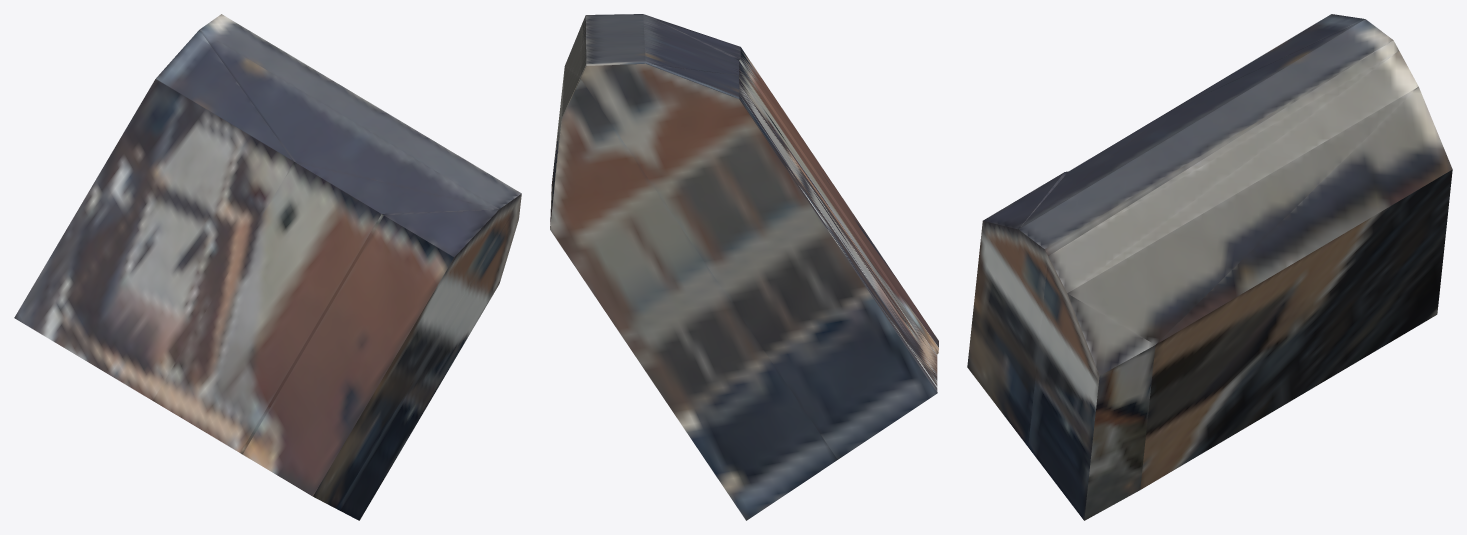
3 views of the same model, side by side, from view 1: azimuth 30°, elevation 25°; view 2: azimuth 150°, elevation 25°; view 3: azimuth 270°, elevation 25° (orthographic). The views are drawn at different scales.
Visible parts, largest first — view 1: BAG_0599100000241229 (×6); view 2: BAG_0599100000241229 (×6); view 3: BAG_0599100000241229 (×6).
Boxes of the visible parts, bbox=[...] form: BAG_0599100000241229 (×6): bbox=[14, 14, 521, 520]; BAG_0599100000241229 (×6): bbox=[550, 14, 938, 520]; BAG_0599100000241229 (×6): bbox=[967, 14, 1452, 520].
Bounding box in the file's own units: 16.35 × 16.19 × 14.85.
Materials: 1 (1 with a texture image).
